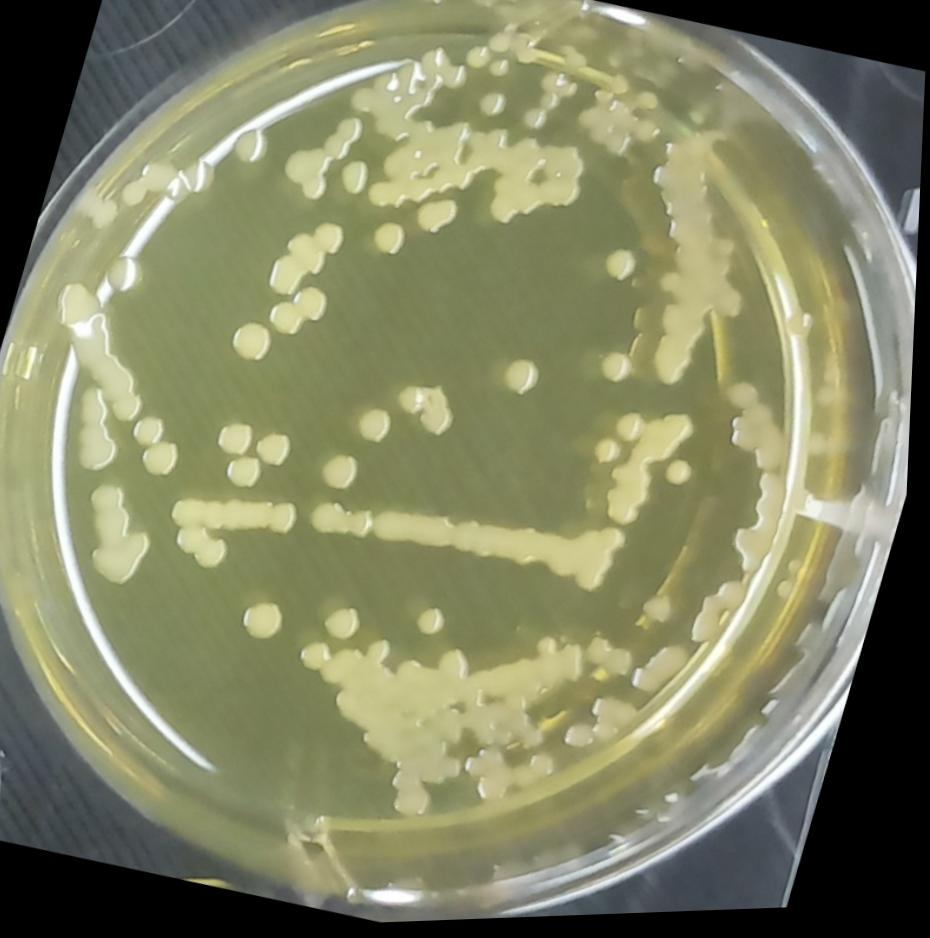vharveyi: (300, 457, 638, 615), (156, 472, 307, 587)
